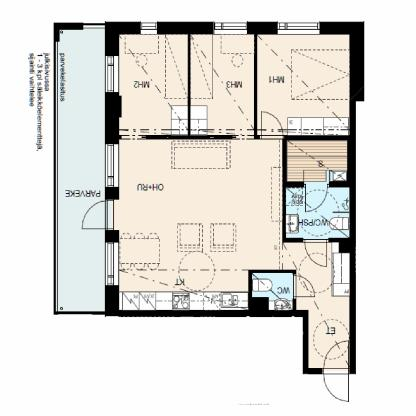door: (320, 334, 352, 404), (78, 197, 119, 232), (259, 111, 285, 143), (304, 184, 330, 215), (304, 238, 330, 267), (290, 274, 315, 300)
window: (105, 144, 119, 187), (103, 53, 118, 92), (105, 242, 118, 286), (276, 22, 319, 32), (213, 21, 245, 33), (139, 19, 158, 33)
zone: (120, 139, 350, 371), (58, 28, 104, 314), (256, 34, 348, 135), (118, 32, 185, 136), (190, 32, 254, 138), (286, 185, 348, 237), (285, 140, 349, 183), (248, 275, 291, 313)
